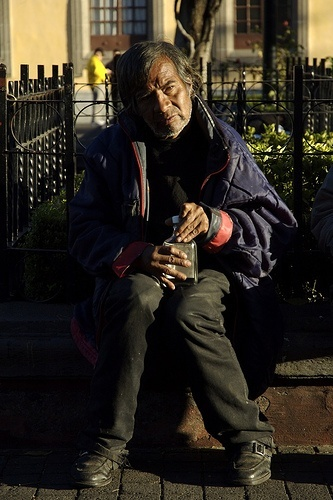head: (114, 42, 197, 138)
person: (63, 68, 300, 469), (87, 46, 108, 122)
